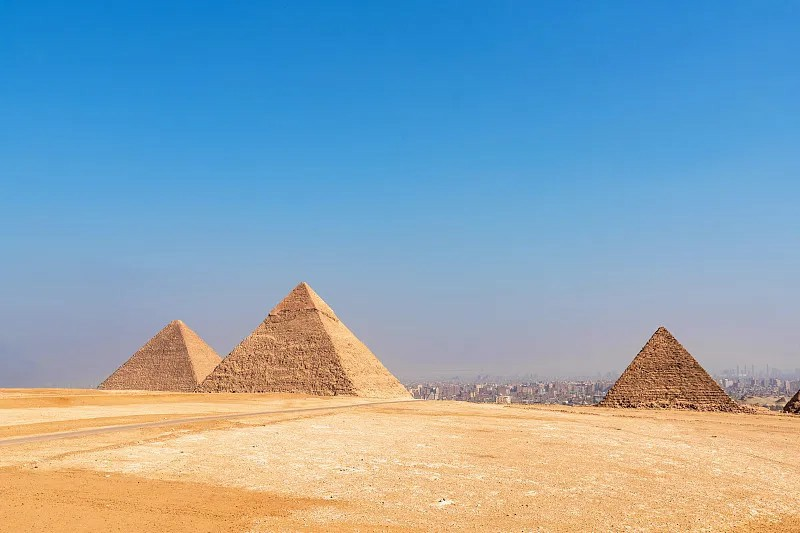Pyramid: (193, 281, 412, 395), (595, 327, 742, 412), (94, 318, 224, 393)
